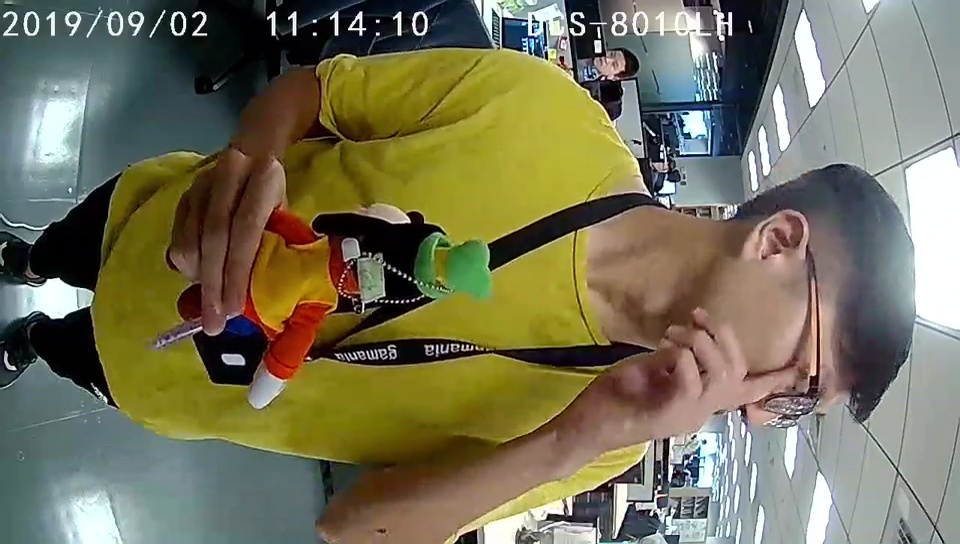goofy: (250, 214, 489, 410)
